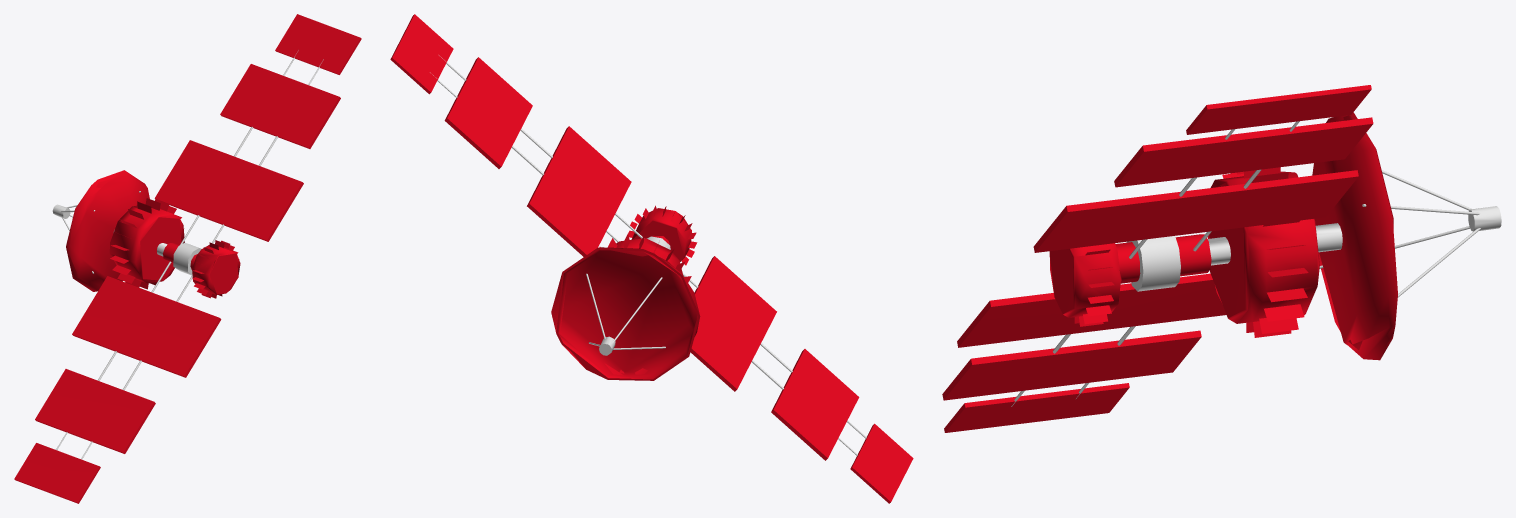
The model's file is Skill1.glb.
3 renders of one model, left to right at view 1: azimuth 30°, elevation 25°; view 2: azimuth 150°, elevation 25°; view 3: azimuth 270°, elevation 25°, orthographic. The views are drawn at different scales.
Parts seen in each view (by area): view 1: pCylinder83; view 2: pCylinder83; view 3: pCylinder83.
Boxes of the visible parts, left/top/right/bottom form: pCylinder83: left=14, top=14, right=361, bottom=503; pCylinder83: left=390, top=14, right=913, bottom=503; pCylinder83: left=942, top=85, right=1501, bottom=432.
Bounding box in the file's own units: 1.73 × 1.49 × 1.13.
